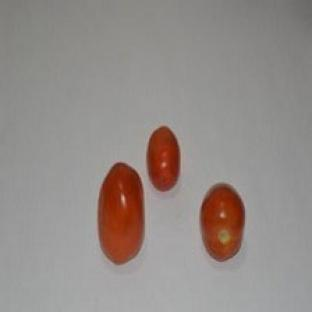Tomato: (98, 163, 144, 264), (201, 184, 245, 260), (147, 126, 179, 190)
